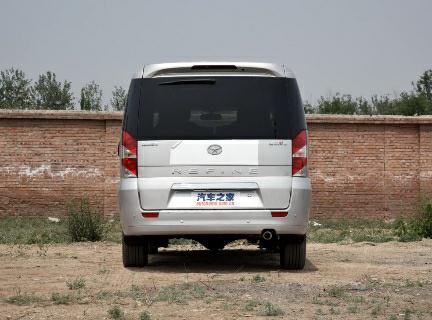江淮-瑞风M5: (117, 56, 315, 276)
